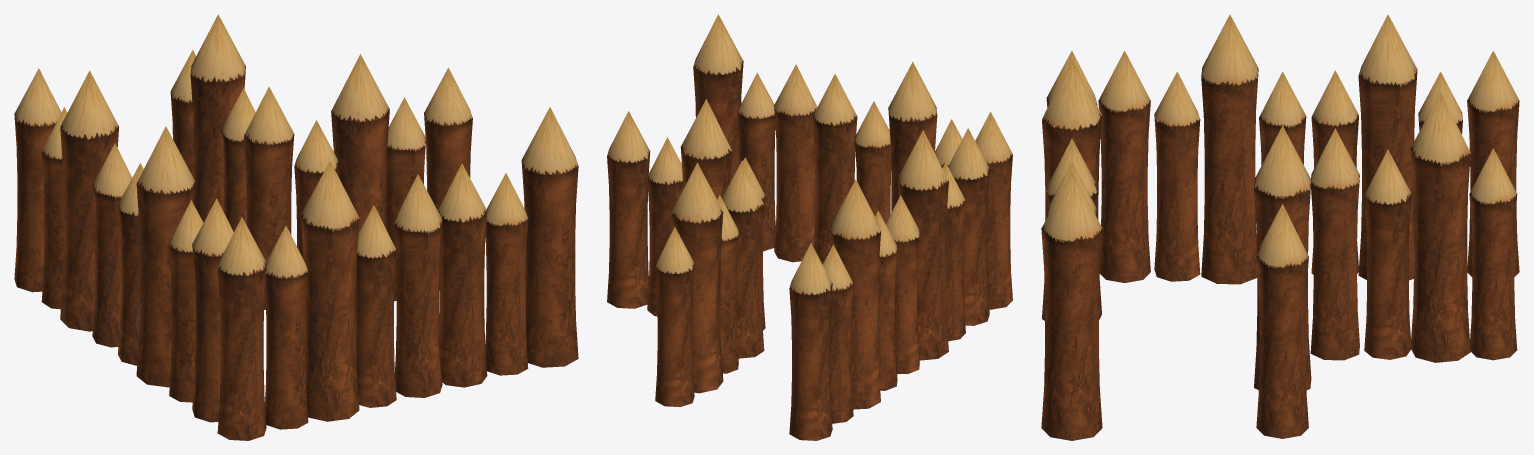
Rendered from Fence_Corner.FBX.
3 renders of one model, left to right at view 1: azimuth 30°, elevation 25°; view 2: azimuth 150°, elevation 25°; view 3: azimuth 270°, elevation 25°, orthographic. The views are drawn at different scales.
Parts seen in each view (by area): view 1: Fence_Corner; view 2: Fence_Corner; view 3: Fence_Corner.
Part boxes in pixels (x1,y1,x2,y2): Fence_Corner: (14,14,578,440); Fence_Corner: (607,14,1012,440); Fence_Corner: (1041,14,1519,440).
Size of the model in its own units: 814 by 541 by 908.
